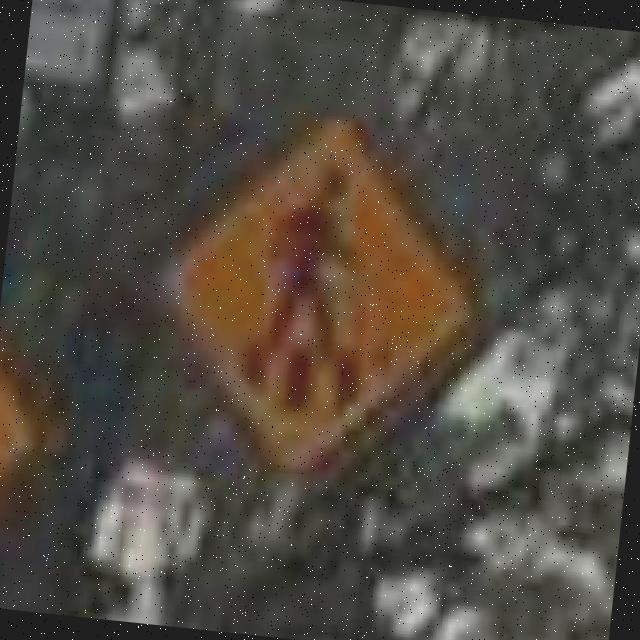Przejscie dla pieszych: (174, 124, 476, 466)
